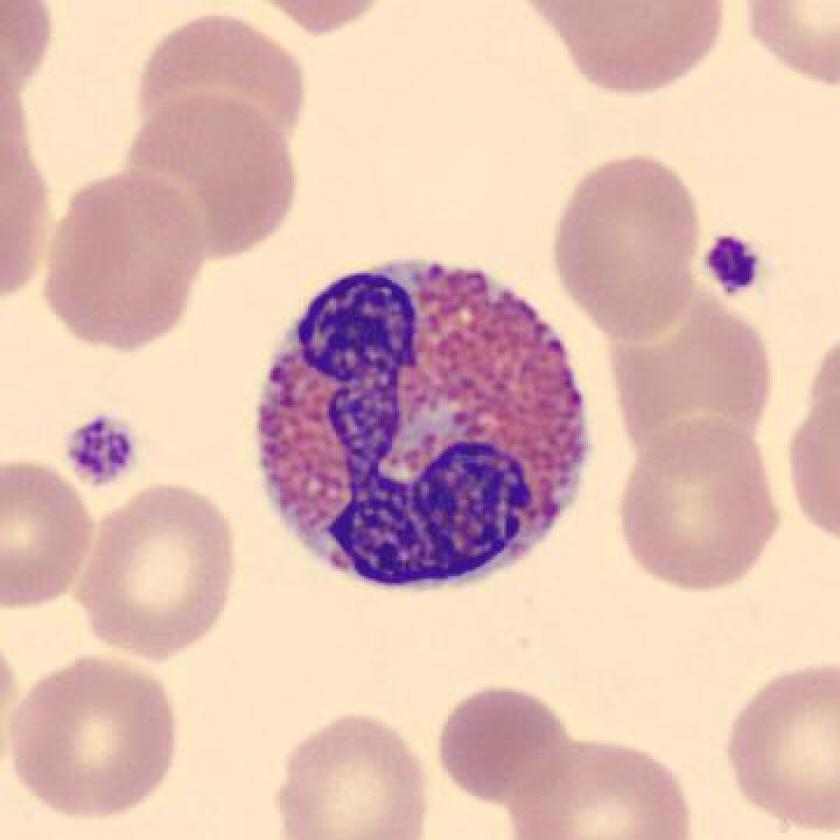eosinophil: (241, 244, 596, 603)
